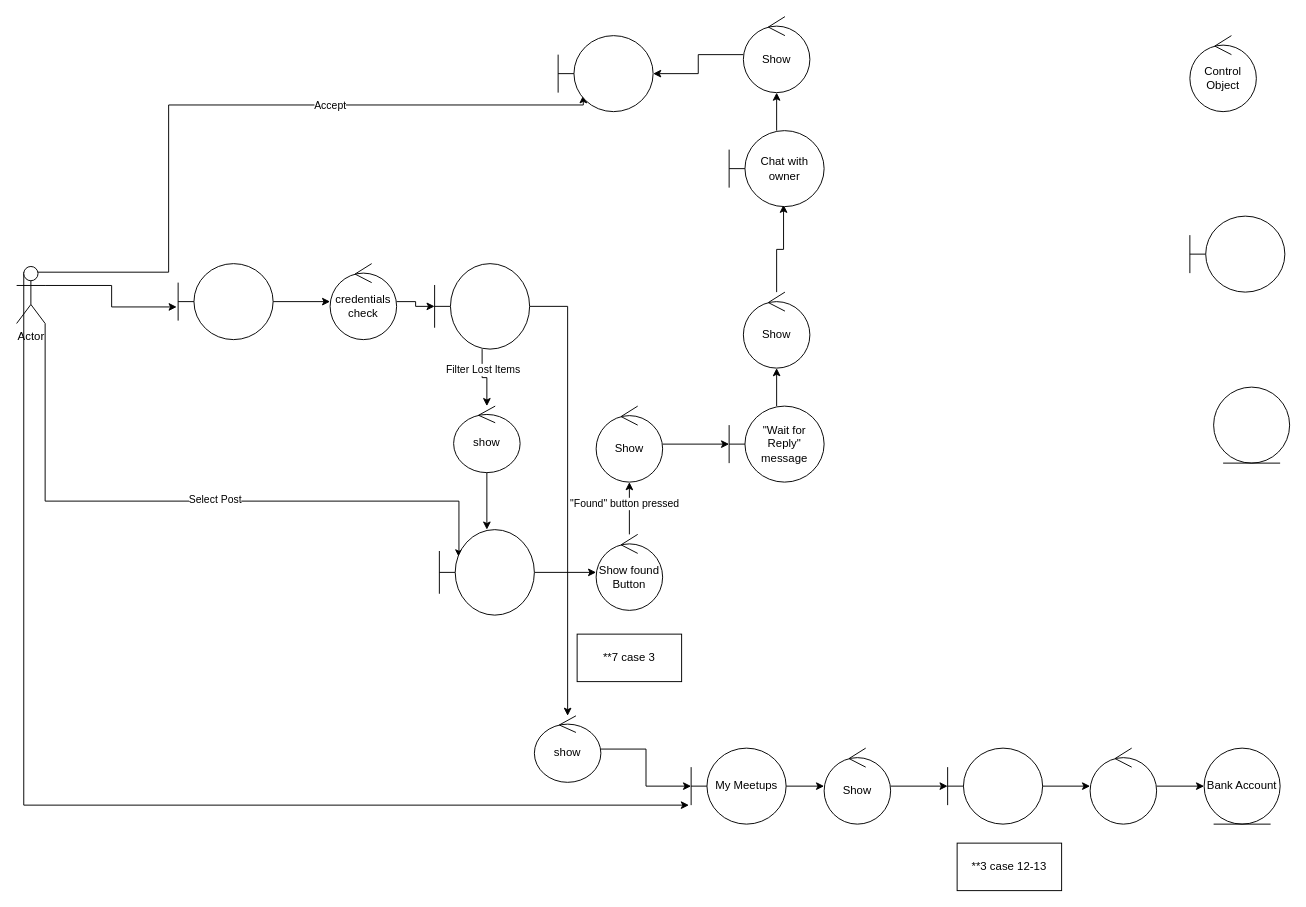
Some shapes in this 1306 by 907 pixel diagram are drawn without their labels. Each missing label, with the box of its shape:
"Delivery Done" Button: (947, 747, 1043, 824)
Boundary Object: (1189, 215, 1285, 292)
Entity Object: (1213, 386, 1290, 463)
login screen: (177, 263, 273, 340)
Lost Items Posts: (438, 529, 534, 615)
main screen: (434, 263, 530, 349)
Meeting Form: (557, 35, 653, 112)
reward amount deposit: (1089, 747, 1157, 824)
